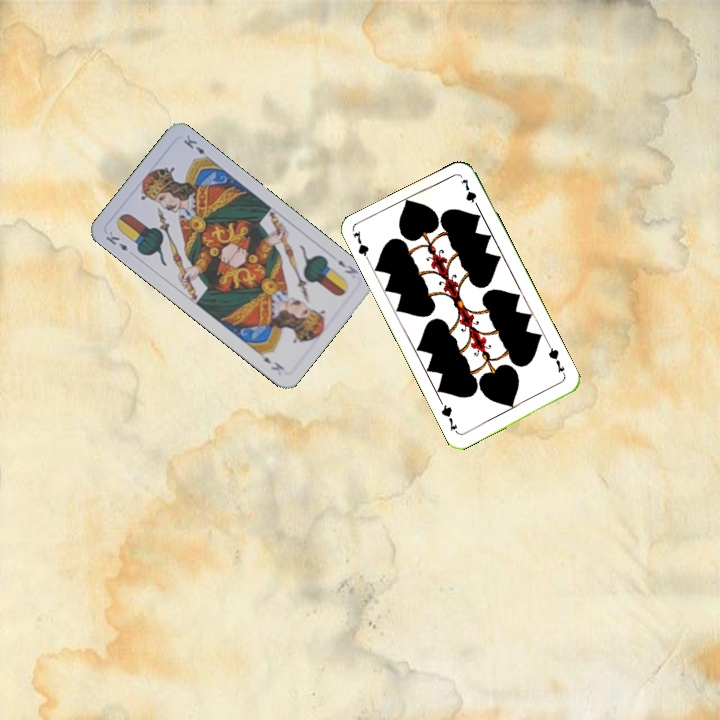EK: (102, 227, 131, 254), (334, 256, 361, 277)
G7: (349, 227, 374, 267), (544, 342, 568, 380)
